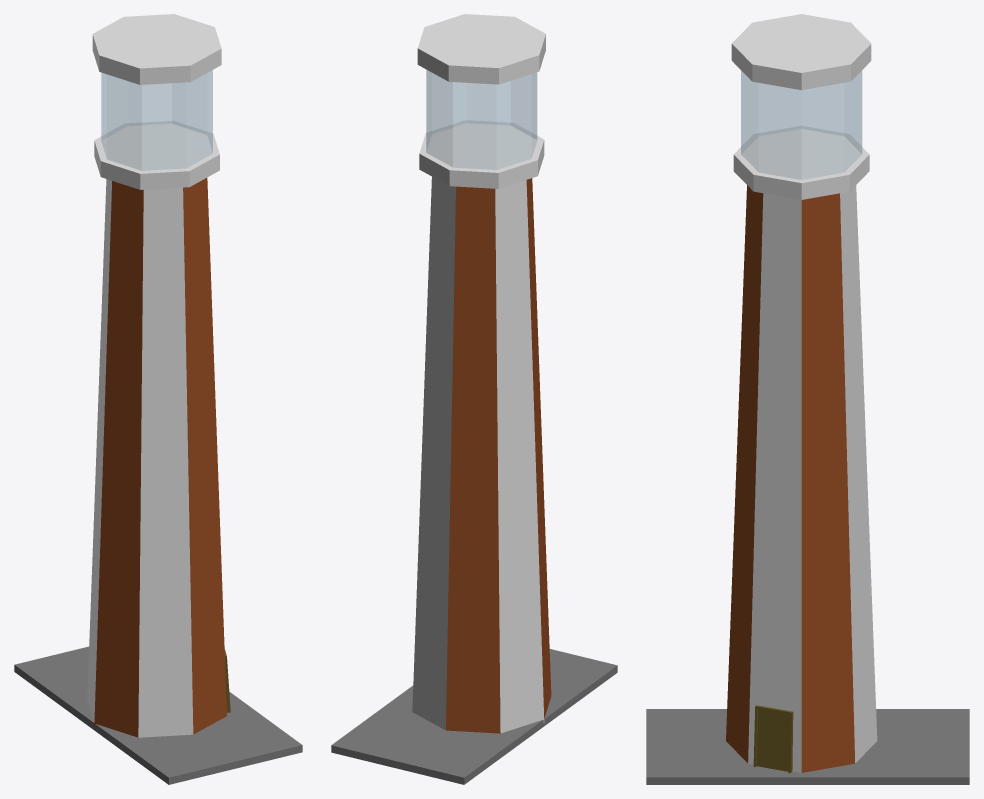
Rendered from lighthouse.fbx.
The picture shows the model from 3 angles, left to right: view 1: azimuth 30°, elevation 25°; view 2: azimuth 150°, elevation 25°; view 3: azimuth 270°, elevation 25°; orthographic projection. The views are drawn at different scales.
Visible parts, largest first — view 1: l_house; view 2: l_house; view 3: l_house.
Part boxes in pixels (<box>): l_house: <box>14,14,302,784</box>; l_house: <box>331,14,617,784</box>; l_house: <box>646,14,969,784</box>.
Bounding box in the file's own units: 2.72 × 13.07 × 5.42.
